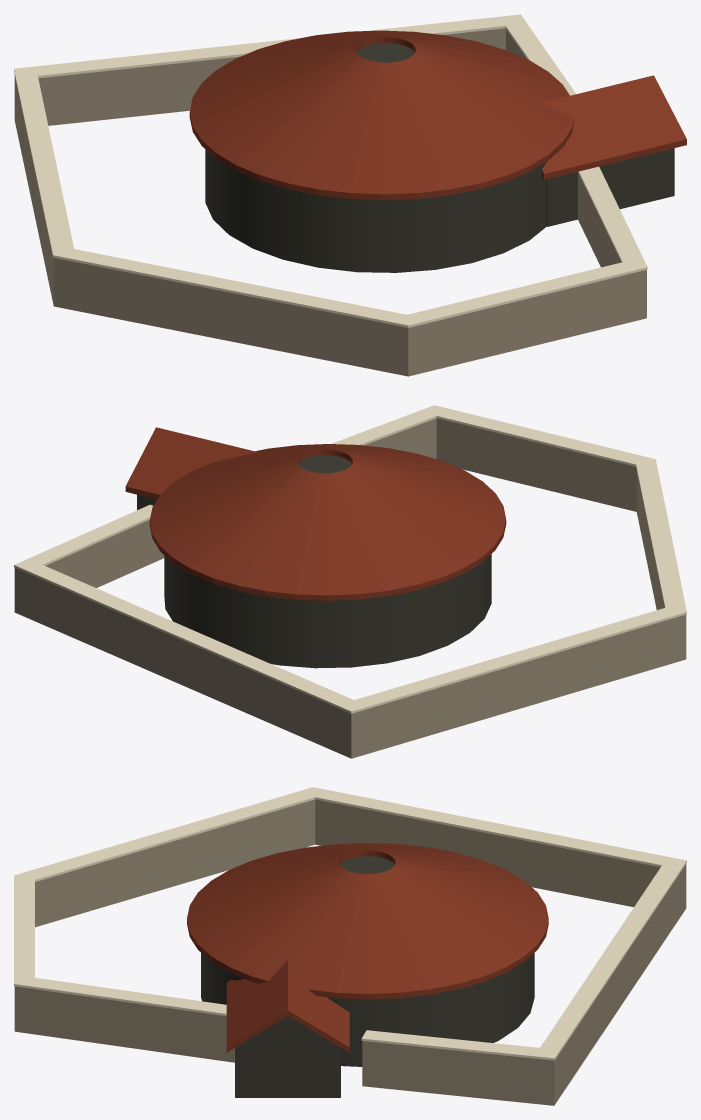
Rendered from VerBuild04.glb.
3 views of the same model, one above another, from view 1: azimuth 30°, elevation 25°; view 2: azimuth 150°, elevation 25°; view 3: azimuth 270°, elevation 25° (orthographic). The views are drawn at different scales.
Visible parts, largest first — view 1: VerBuild04_roof; view 2: VerBuild04_roof; view 3: VerBuild04_roof.
Part boxes in pixels (x1,y1,x2,y2): VerBuild04_roof: (14,14,686,376); VerBuild04_roof: (14,405,686,758); VerBuild04_roof: (14,787,686,1105).
Bounding box in the file's own units: 11.5 × 2.71 × 12.06.
